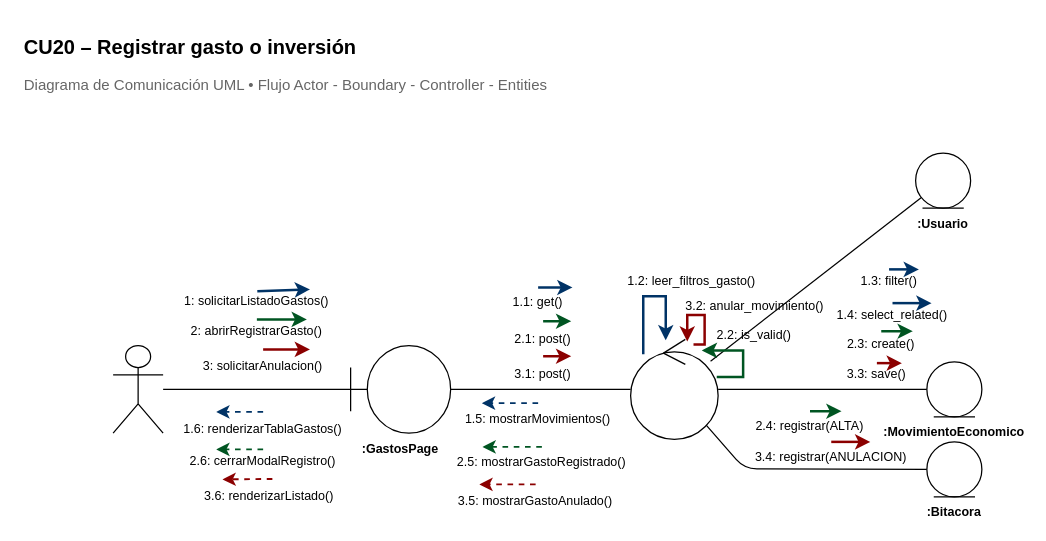
This 1046x541 diagram has some shape labels left out. Each missing label, with the centre of its shape:
":GastoController" belongs at pixel 673 388.
":Propietario" belongs at pixel 137 388.
